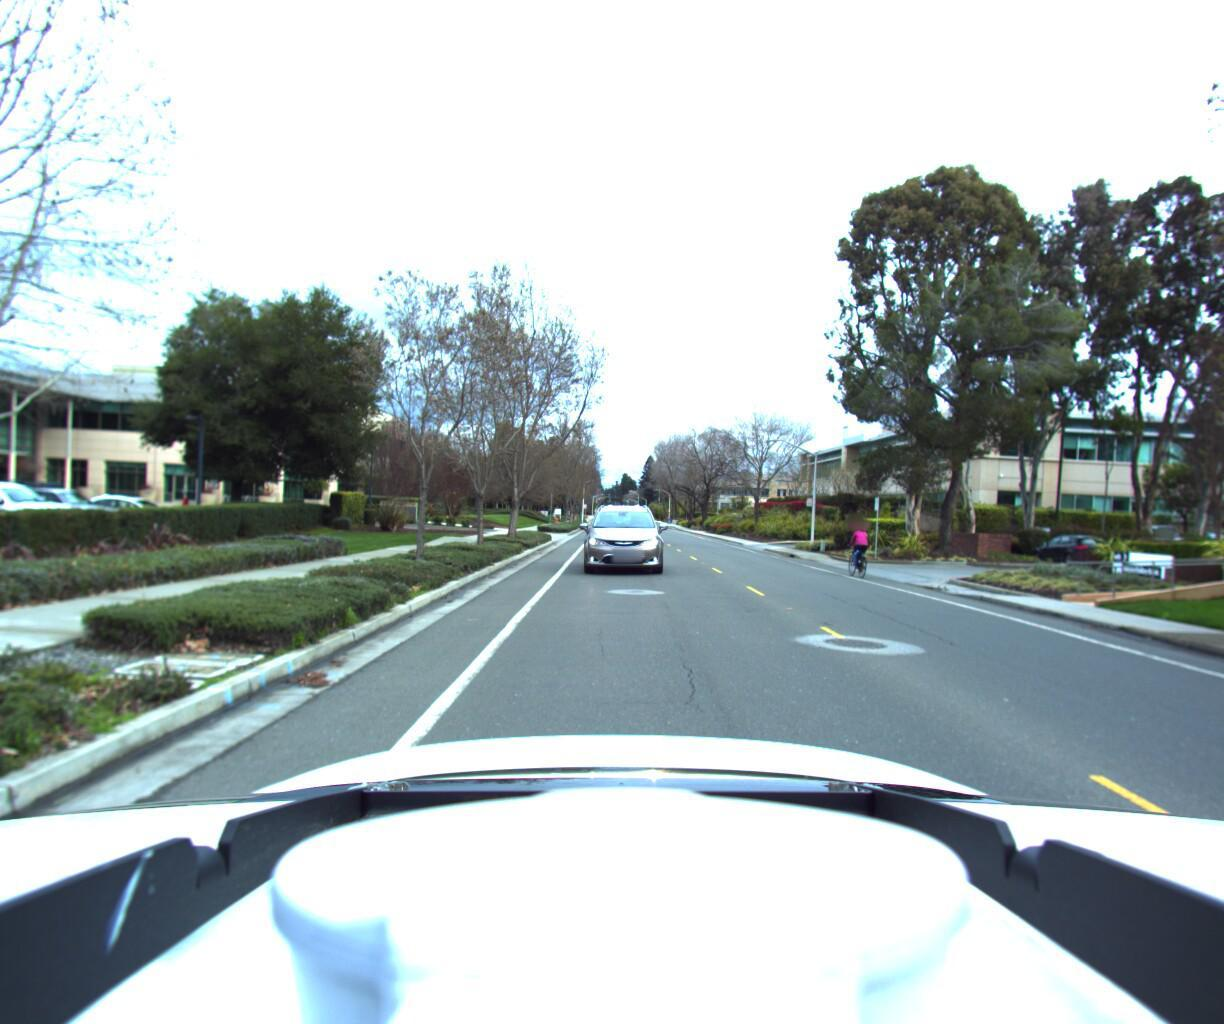bicycle: (834, 522, 871, 577)
car: (574, 496, 671, 578)
